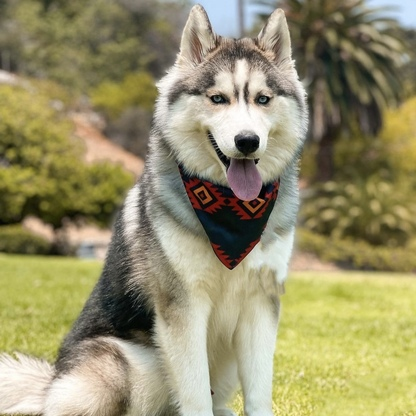husky: (1, 2, 315, 416)
